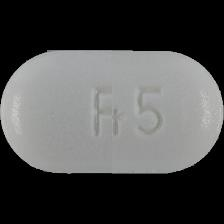45802-132: (0, 0, 224, 224)
